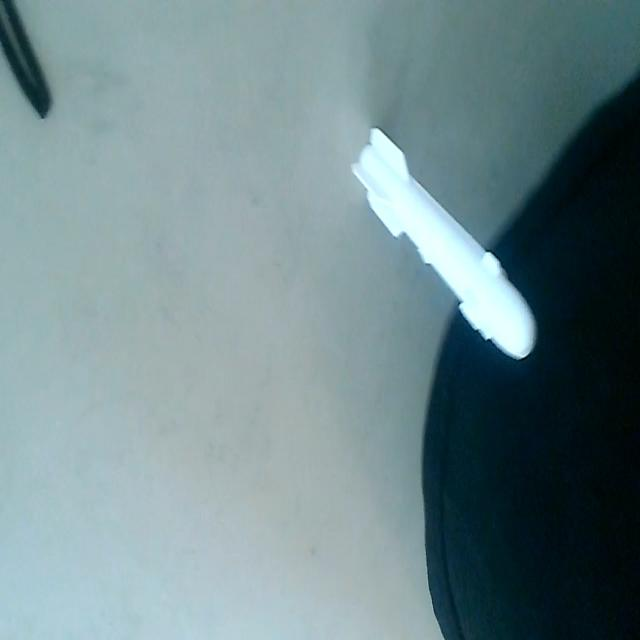Rocket: (350, 119, 537, 363)
